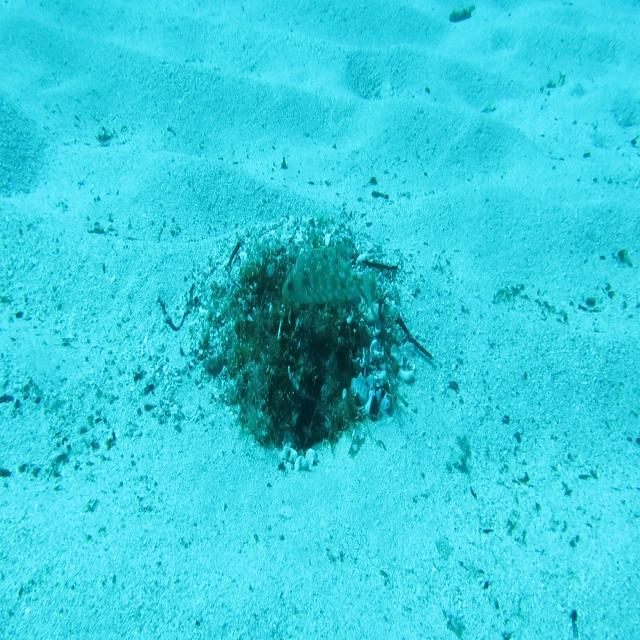MAN: (280, 237, 378, 323)
core_nest: (272, 275, 328, 320)
nest: (178, 214, 423, 492)
vegetation: (451, 2, 480, 22)
